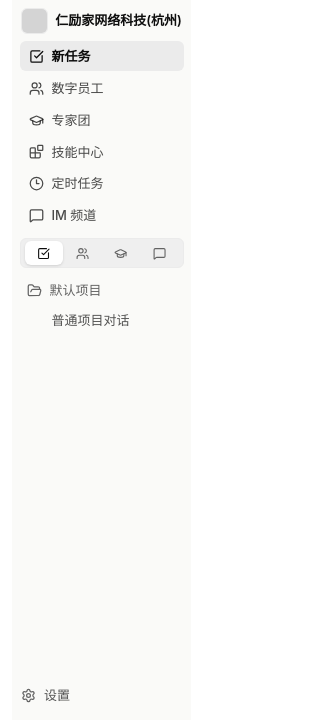
Scenario: AppSidebar › separates expert team conversations from the project tab into an expert team tab
The image size is (332, 720).
Expected: the button "专家团" is shown, [20,105,184,135]
Expected: the text "普通项目对话" is shown, [52,312,130,328]
Click the button named "专家" at (121, 253), box [102,241,140,265]
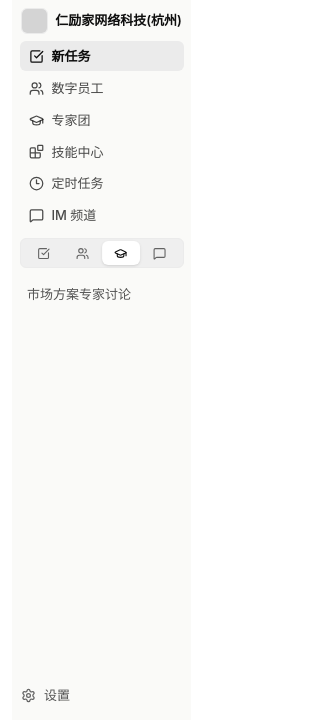
Expected: the text "市场方案专家讨论" is shown, [27,286,131,302]
Expected: the button "普通项目对话" is gone
Expected: the button "默认项目" is gone
